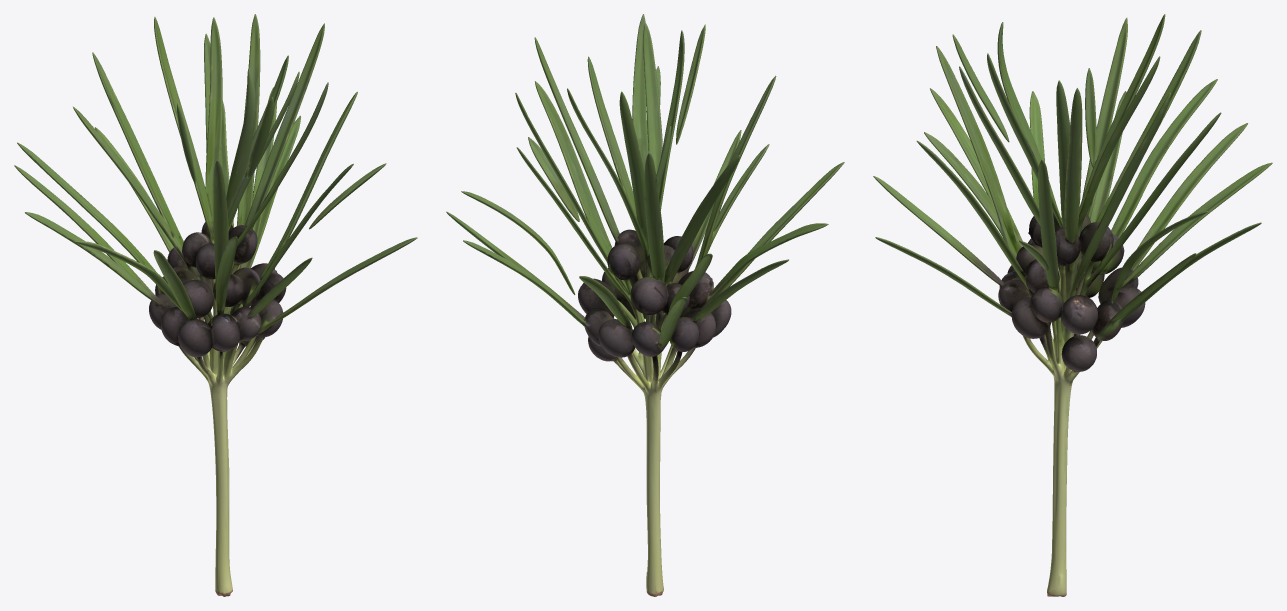
File: xiangfu.glb
The picture shows the model from 3 angles, left to right: view 1: azimuth 30°, elevation 25°; view 2: azimuth 150°, elevation 25°; view 3: azimuth 270°, elevation 25°; orthographic projection. The views are drawn at different scales.
Parts seen in each view (by area): view 1: node_0; view 2: node_0; view 3: node_0.
Part boxes in pixels (<box>): node_0: <box>14,14,417,596</box>; node_0: <box>446,14,844,596</box>; node_0: <box>873,14,1272,596</box>.
Size of the model in its own units: 0.6653 by 1.11 by 0.7009.
Materials: 1 (1 with a texture image).
